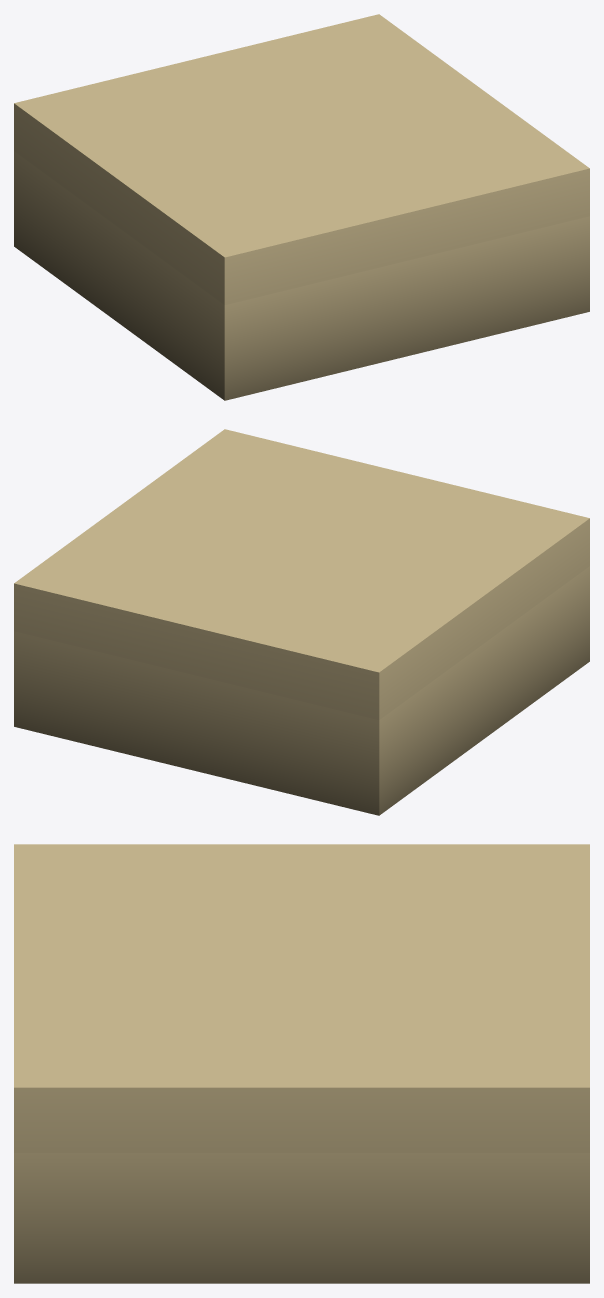
The model's file is D02_tile_sand.glb.
The picture shows the model from 3 angles, top to bottom: view 1: azimuth 30°, elevation 25°; view 2: azimuth 150°, elevation 25°; view 3: azimuth 270°, elevation 25°; orthographic projection. The views are drawn at different scales.
Parts seen in each view (by area): view 1: D02_tile_sand; view 2: D02_tile_sand; view 3: D02_tile_sand.
Part boxes in pixels (x1,y1,x2,y2): D02_tile_sand: (14, 14, 589, 400); D02_tile_sand: (14, 429, 589, 815); D02_tile_sand: (14, 844, 589, 1283).
Size of the model in its own units: 2 by 0.75 by 2.
